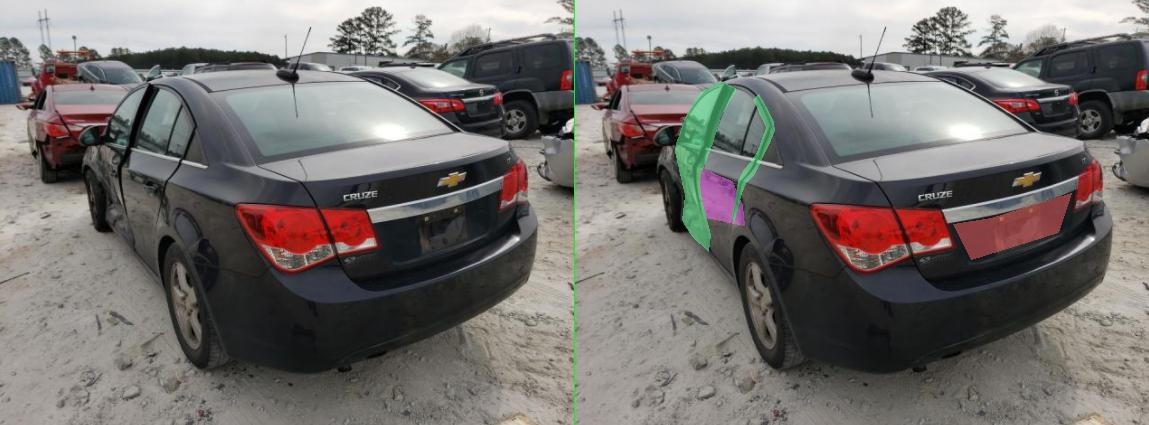Broken part: (200, 81, 322, 251), (314, 94, 398, 223)
Dent: (240, 166, 338, 242)
Missing part: (757, 193, 993, 259)
